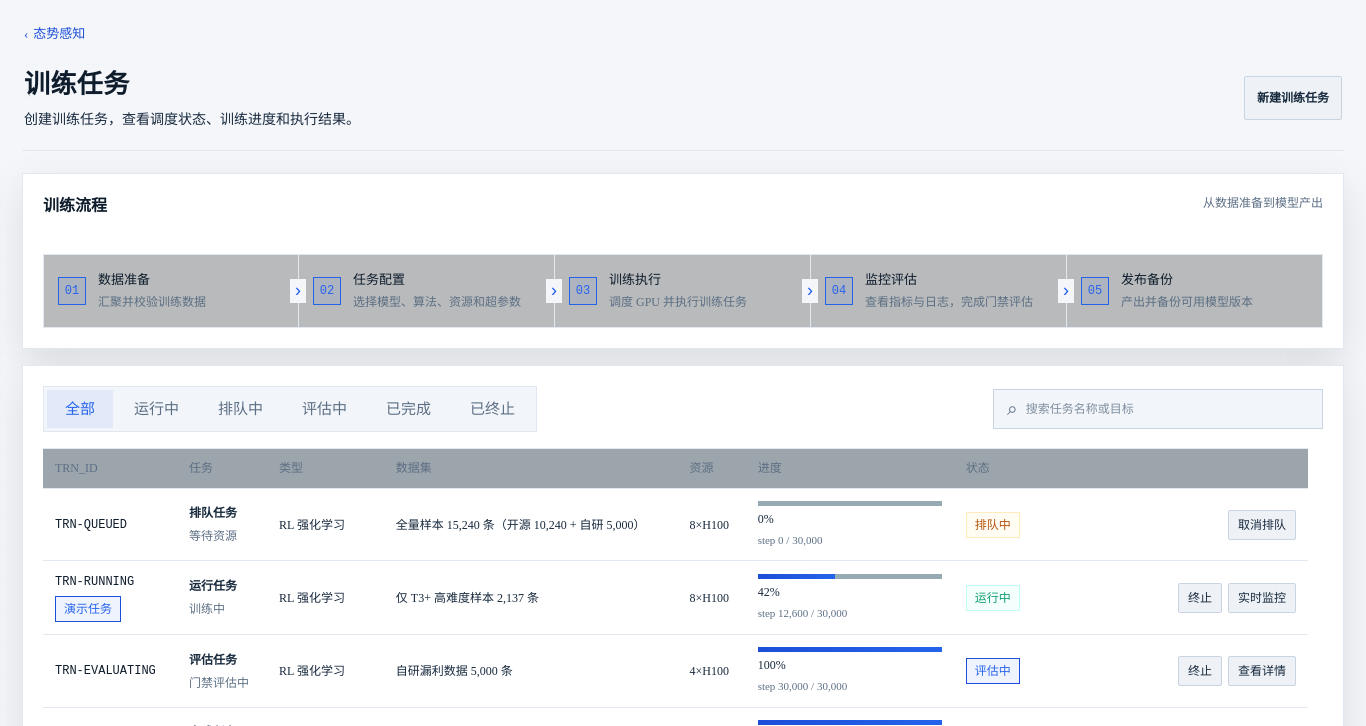
Training › shows the backend terminate error without hiding the action up front
This screenshot has width=1366, height=726.
Click the button with aria-label "终止 TRN-RUNNING": {"x": 1200, "y": 598} [1178,583,1222,613]
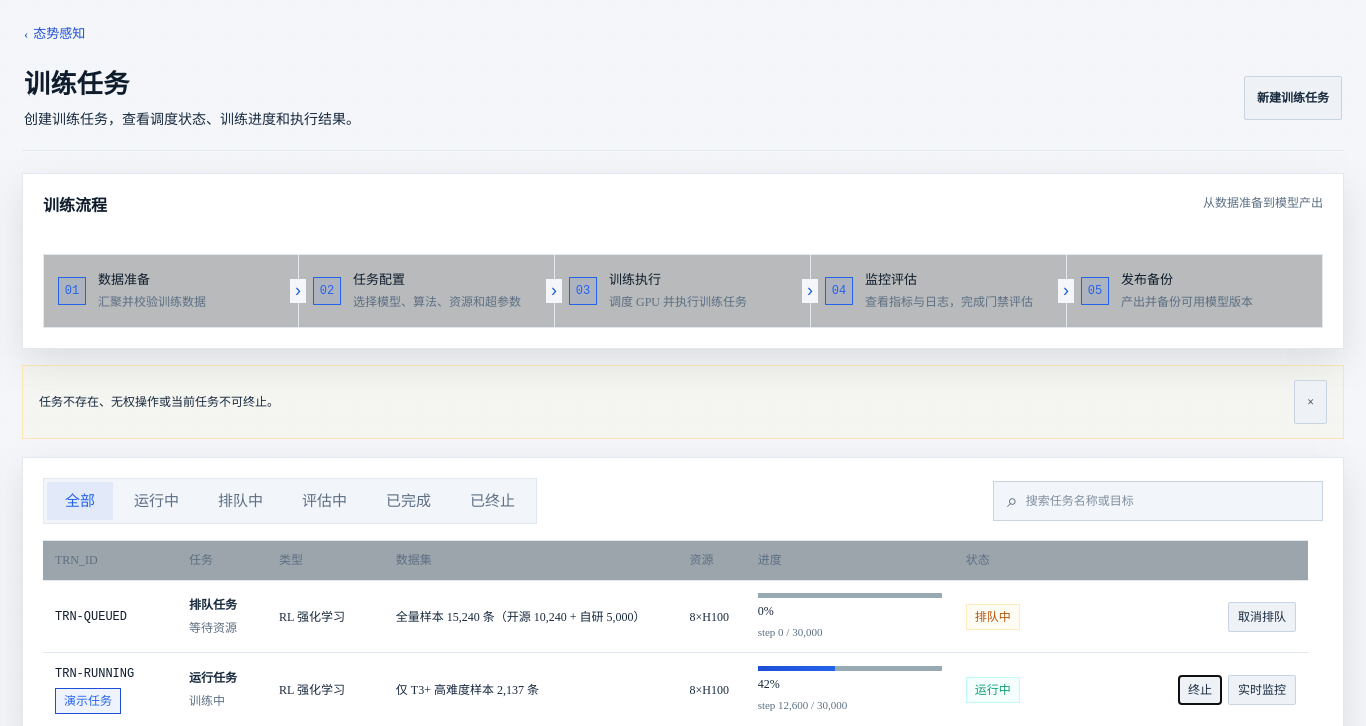
Check: the message shows "任务不存在、无权操作或当前任务不可终止。", box [39,395,279,409]
Click the button named "关闭": {"x": 1311, "y": 402} [1294,380,1327,424]
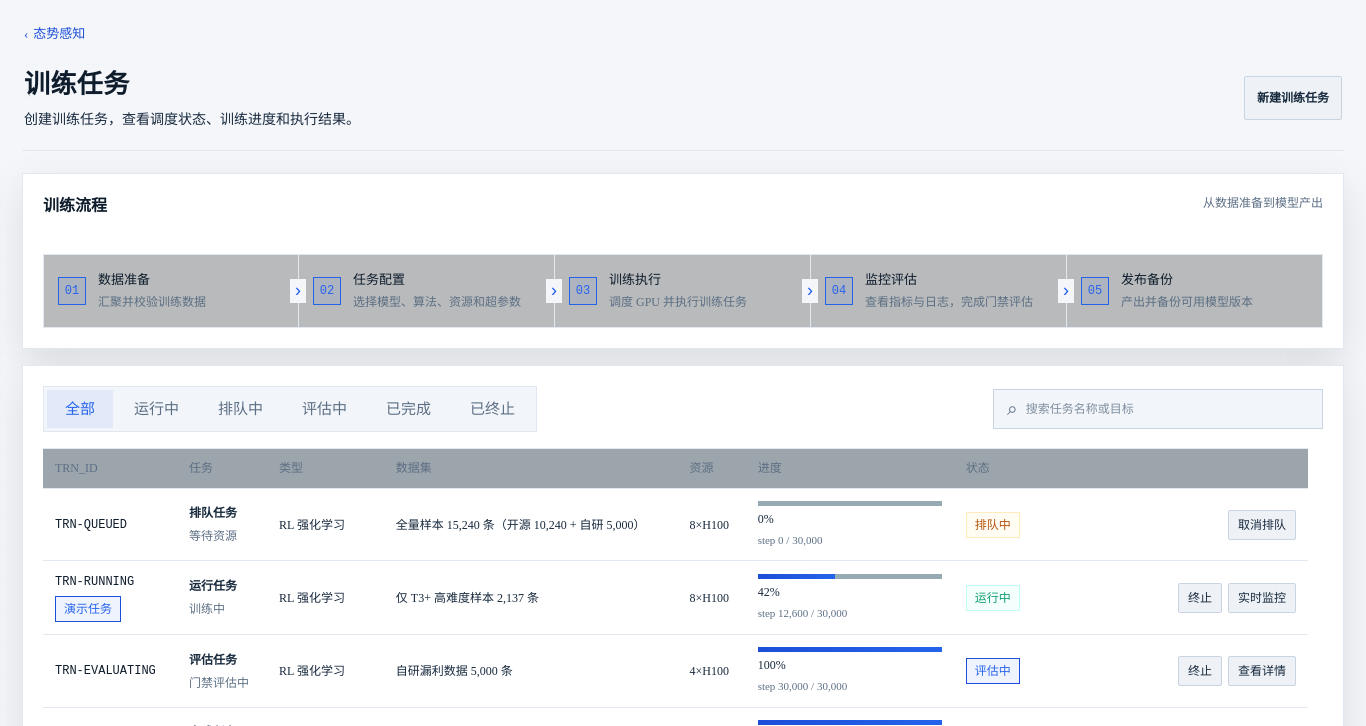
Check: the text "任务不存在、无权操作或当前任务不可终止。" is gone
